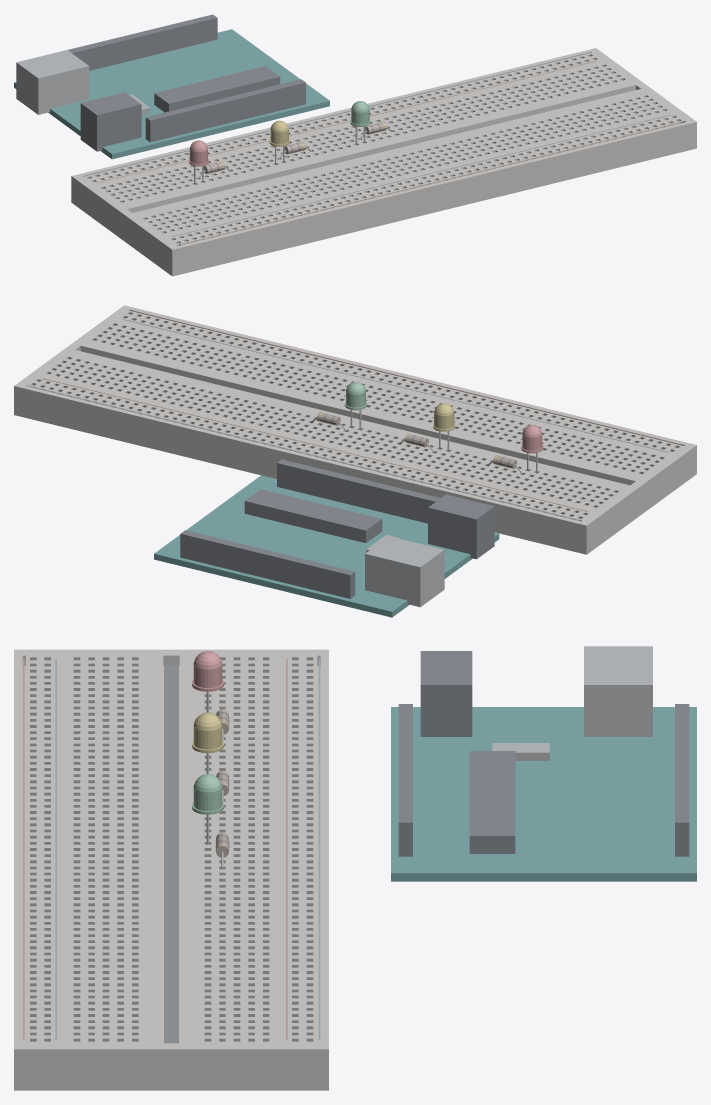
Rendered from step-8.glb.
3 views of the same model, one above another, from view 1: azimuth 30°, elevation 25°; view 2: azimuth 150°, elevation 25°; view 3: azimuth 270°, elevation 25° (orthographic). The views are drawn at different scales.
Parts seen in each view (by area): view 1: breadboard__mesh, uno__mesh, led_green__mesh, led_red__mesh, led_yellow__mesh; view 2: breadboard__mesh, uno__mesh, led_green__mesh, led_yellow__mesh, led_red__mesh; view 3: breadboard__mesh, uno__mesh, led_green__mesh, led_yellow__mesh, led_red__mesh.
Part boxes in pixels (<box>): breadboard__mesh: <box>71,48,696,276</box>; uno__mesh: <box>14,14,329,159</box>; led_green__mesh: <box>350,101,370,144</box>; led_red__mesh: <box>188,140,209,183</box>; led_yellow__mesh: <box>269,120,289,164</box>; breadboard__mesh: <box>14,305,696,554</box>; uno__mesh: <box>154,459,499,617</box>; led_green__mesh: <box>344,382,367,429</box>; led_yellow__mesh: <box>433,403,455,450</box>; led_red__mesh: <box>521,425,543,472</box>; breadboard__mesh: <box>14,649,328,1090</box>; uno__mesh: <box>391,646,696,881</box>; led_green__mesh: <box>192,774,223,843</box>; led_yellow__mesh: <box>192,712,223,773</box>; led_red__mesh: <box>192,651,223,712</box>.
Bounding box in the file's own units: 0.165 × 0.0205 × 0.1192.
